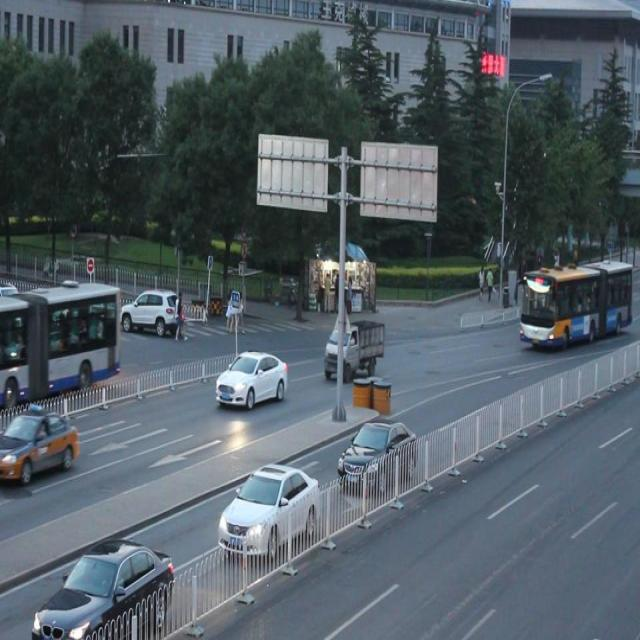bus: (323, 318, 383, 380)
car: (30, 534, 172, 640), (218, 461, 320, 556), (1, 405, 79, 486), (336, 416, 416, 492), (216, 348, 288, 407), (124, 288, 180, 334)
van: (0, 279, 120, 404), (519, 259, 630, 349)
